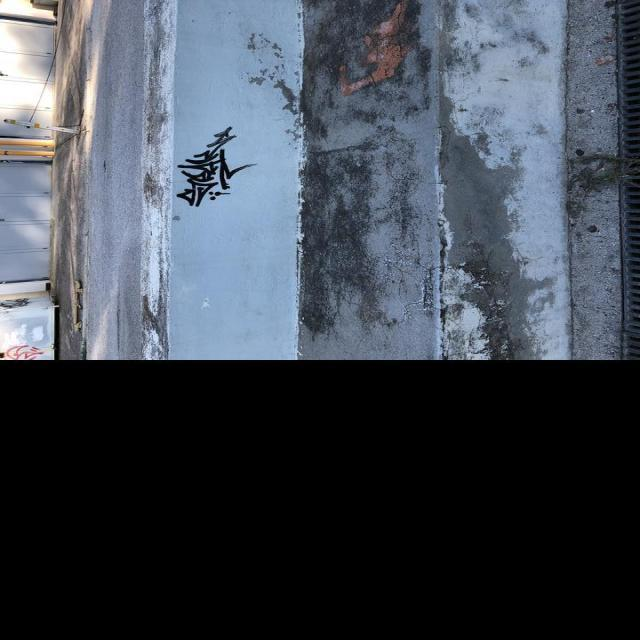nonspitting: (176, 127, 259, 208)
